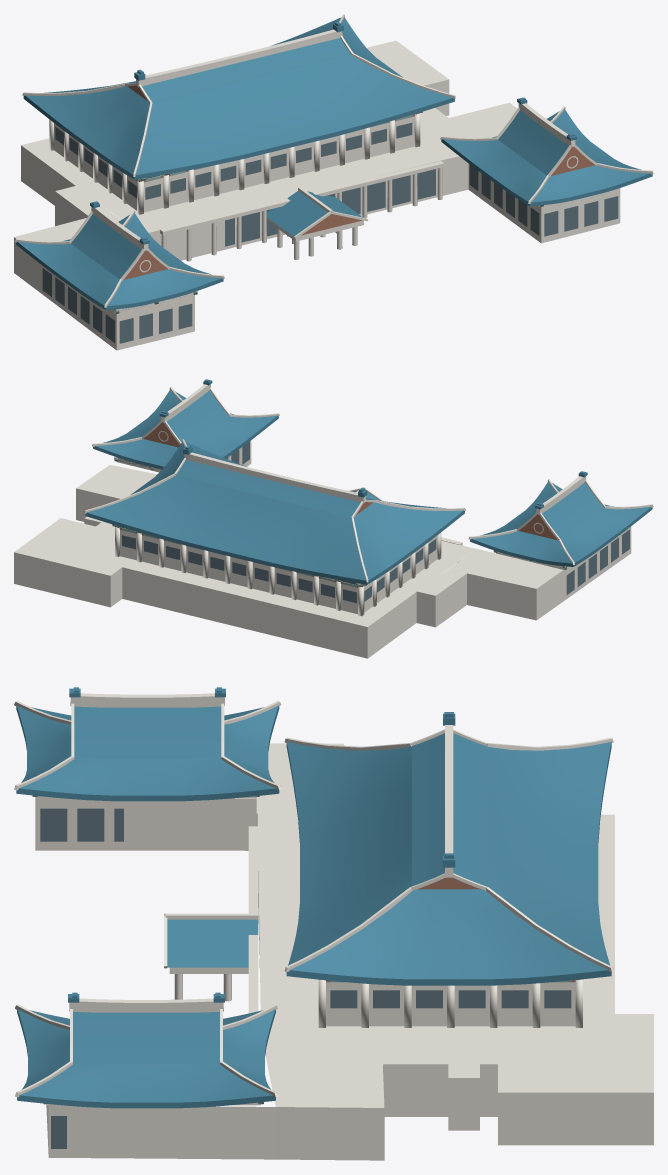
Rendered from seoul-cheong-wa-dae.glb.
The picture shows the model from 3 angles, top to bottom: view 1: azimuth 30°, elevation 25°; view 2: azimuth 150°, elevation 25°; view 3: azimuth 270°, elevation 25°; orthographic projection. The views are drawn at different scales.
Parts seen in each view (by area): view 1: Cheong Wa Dae; view 2: Cheong Wa Dae; view 3: Cheong Wa Dae.
Boxes of the visible parts, x1,y1,x2,y2 form: Cheong Wa Dae: (14,14,653,350); Cheong Wa Dae: (14,379,653,658); Cheong Wa Dae: (14,687,653,1160).
Size of the model in its own units: 112 by 26.5 by 77.18.
